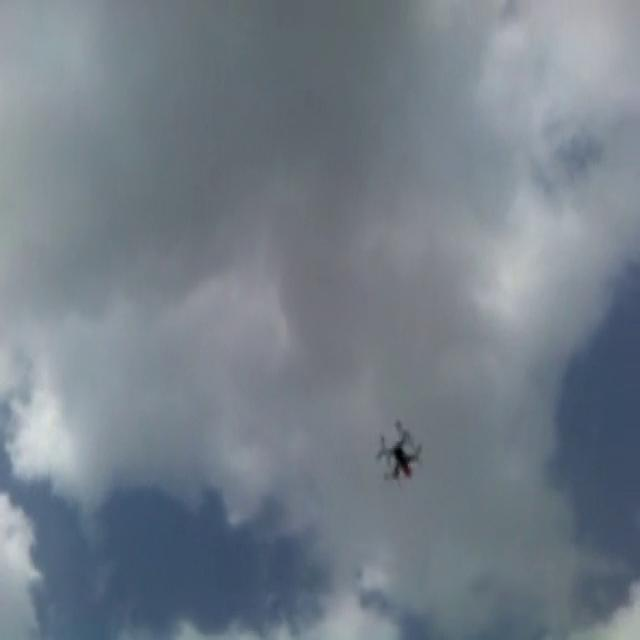drone: (373, 411, 425, 487)
